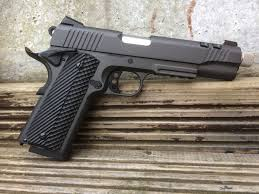gun: (20, 14, 244, 162)
